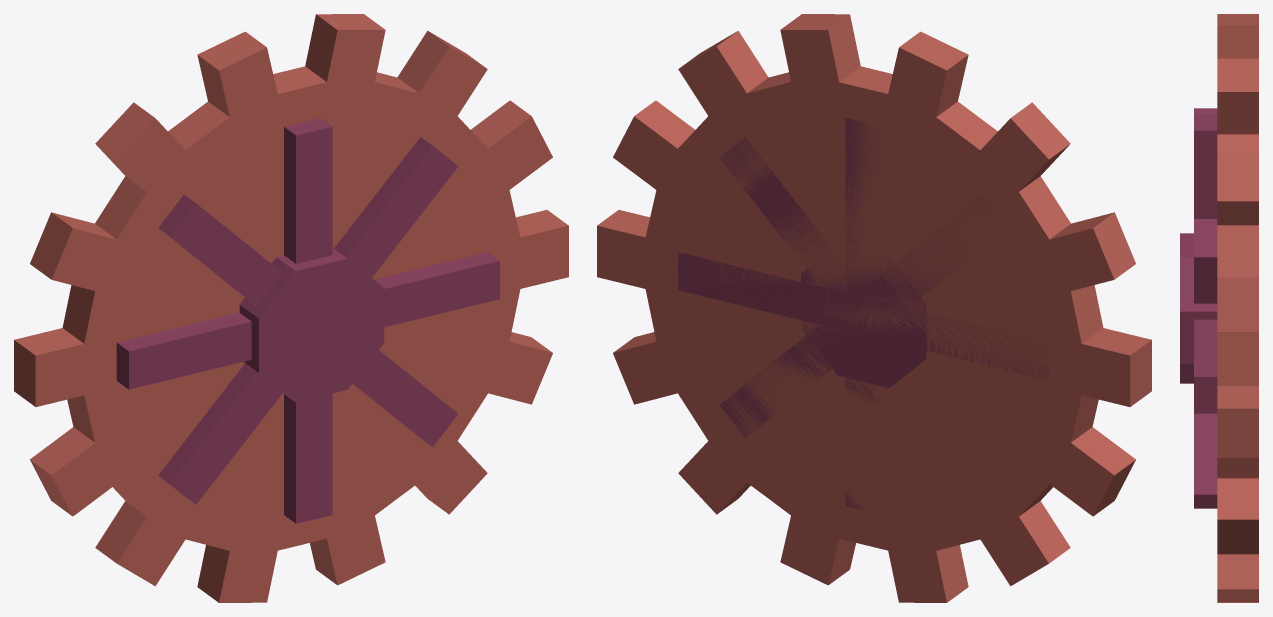
The model's file is gear_big.glb.
3 views of the same model, side by side, from view 1: azimuth 30°, elevation 25°; view 2: azimuth 150°, elevation 25°; view 3: azimuth 270°, elevation 25° (orthographic). The views are drawn at different scales.
Visible parts, largest first — view 1: Ring, Hub, Sp1, Sp2, Sp0, Sp3; view 2: Ring, Sp0, Hub, Sp3, Sp1, Sp2; view 3: Ring, Sp2, Hub, Sp3, Sp0, Sp1.
Part boxes in pixels (left/top/right/bottom): Ring: left=14, top=14, right=568, bottom=602; Hub: left=239, top=248, right=384, bottom=402; Sp1: left=158, top=137, right=458, bottom=504; Sp2: left=284, top=118, right=332, bottom=523; Sp0: left=116, top=252, right=499, bottom=389; Sp3: left=158, top=194, right=458, bottom=446; Ring: left=597, top=14, right=1151, bottom=602; Sp0: left=678, top=252, right=1049, bottom=379; Hub: left=801, top=253, right=926, bottom=388; Sp3: left=720, top=196, right=1001, bottom=437; Sp1: left=720, top=137, right=943, bottom=395; Sp2: left=845, top=118, right=881, bottom=509; Ring: left=1217, top=14, right=1258, bottom=602; Sp2: left=1194, top=113, right=1217, bottom=218; Hub: left=1180, top=233, right=1217, bottom=383; Sp3: left=1194, top=108, right=1217, bottom=508; Sp0: left=1194, top=319, right=1217, bottom=413; Sp1: left=1194, top=219, right=1217, bottom=303.
Bounding box in the file's own units: 2.55 × 2.54 × 0.34.
